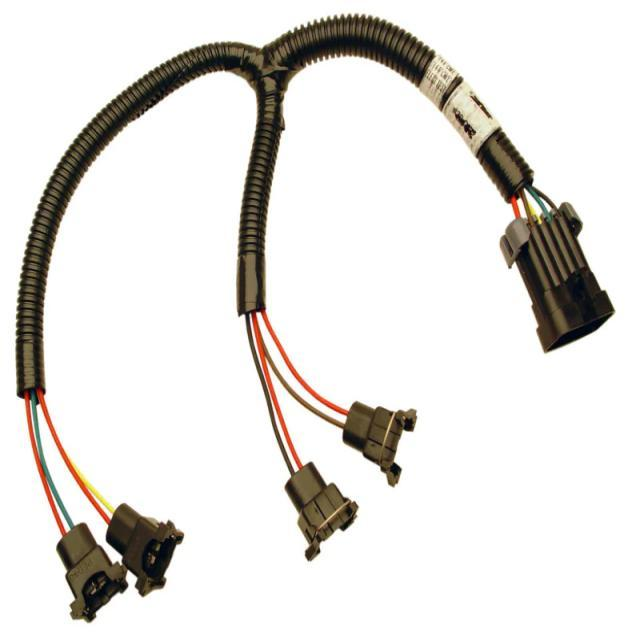connector: (478, 175, 627, 358), (22, 515, 140, 633), (256, 457, 367, 567), (90, 501, 191, 604), (329, 390, 422, 493)
